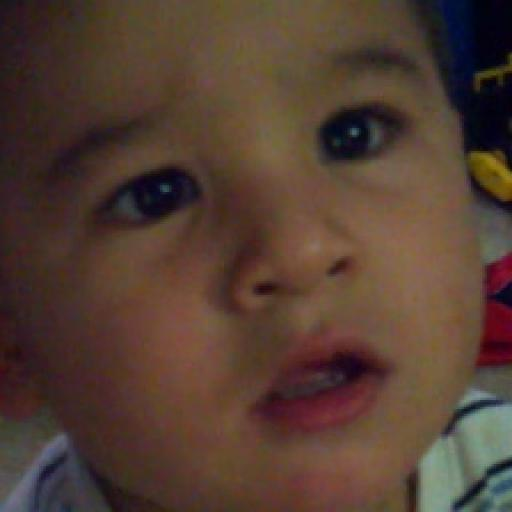Autism: (4, 8, 501, 512)
